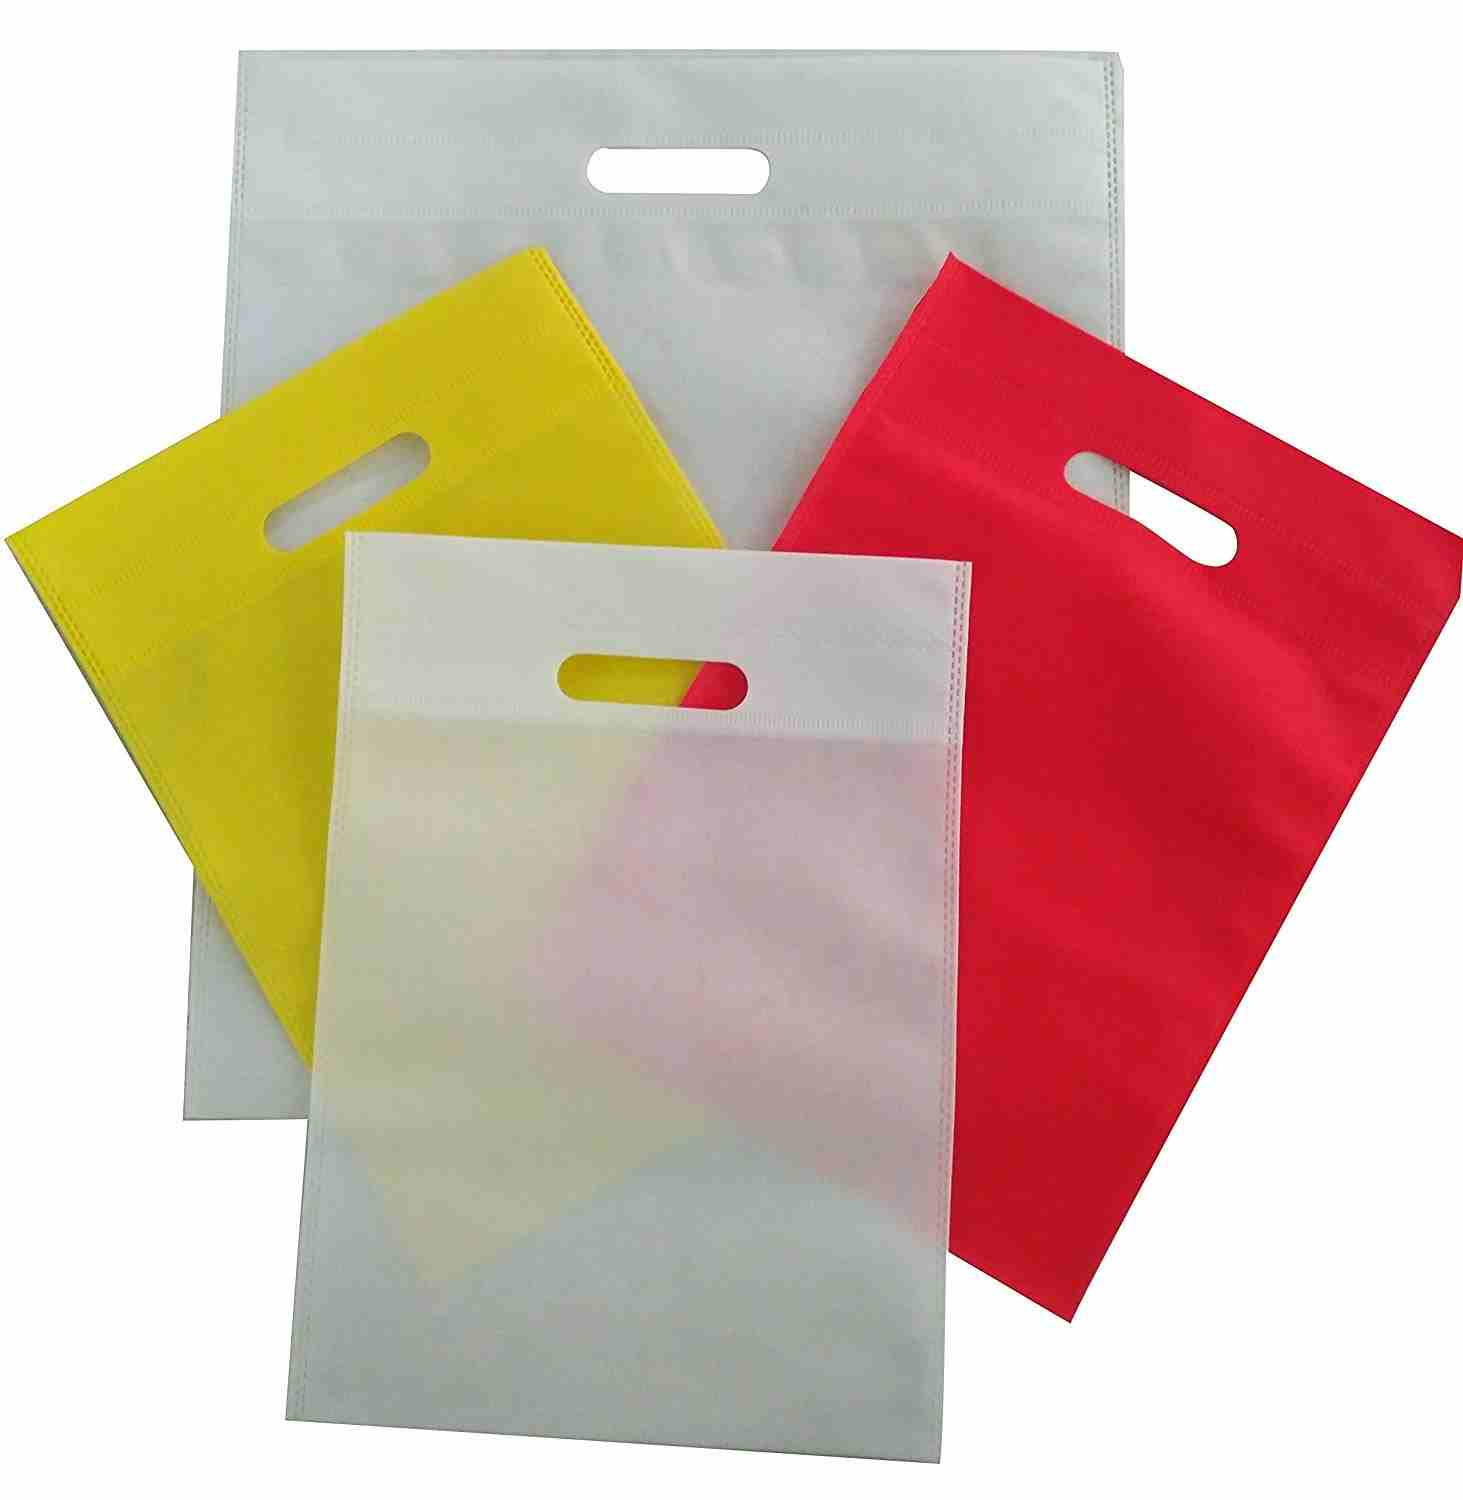carrybag: (334, 548, 928, 1458), (938, 267, 1416, 1335)
